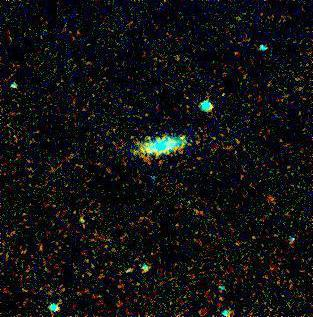star: (66, 203, 96, 233)
